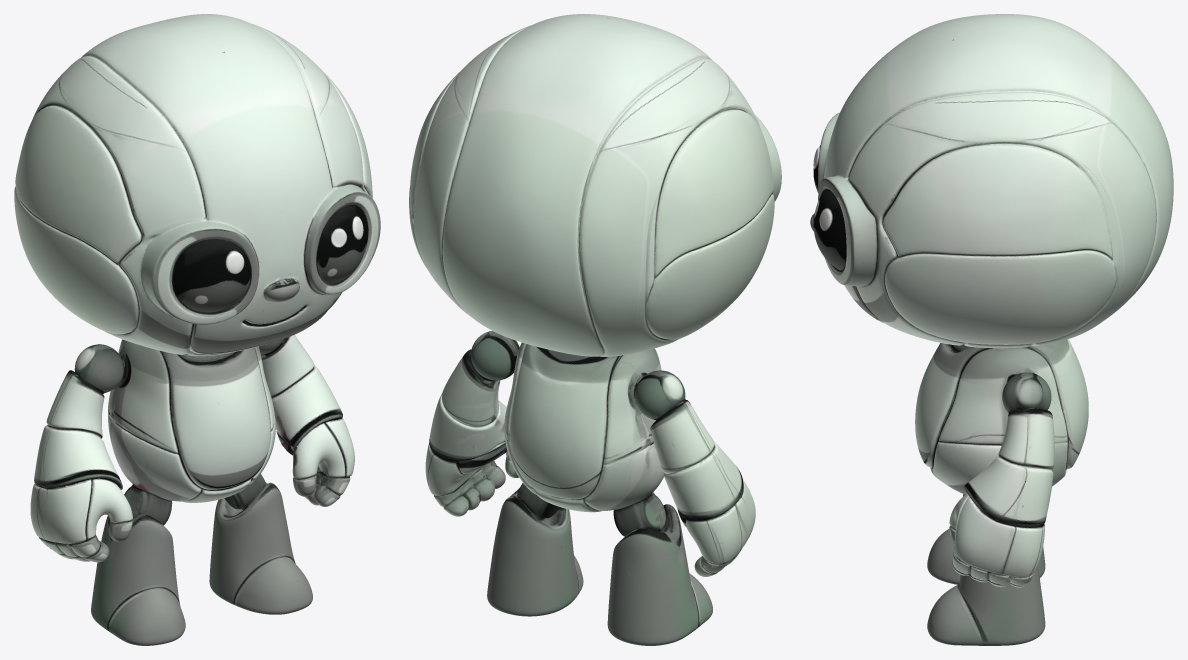
File: Robot.glb
3 views of the same model, side by side, from view 1: azimuth 30°, elevation 25°; view 2: azimuth 150°, elevation 25°; view 3: azimuth 270°, elevation 25° (orthographic). The views are drawn at different scales.
Size of the model in its own units: 1.08 by 1.9 by 1.1.
1 material, 1 textured.
